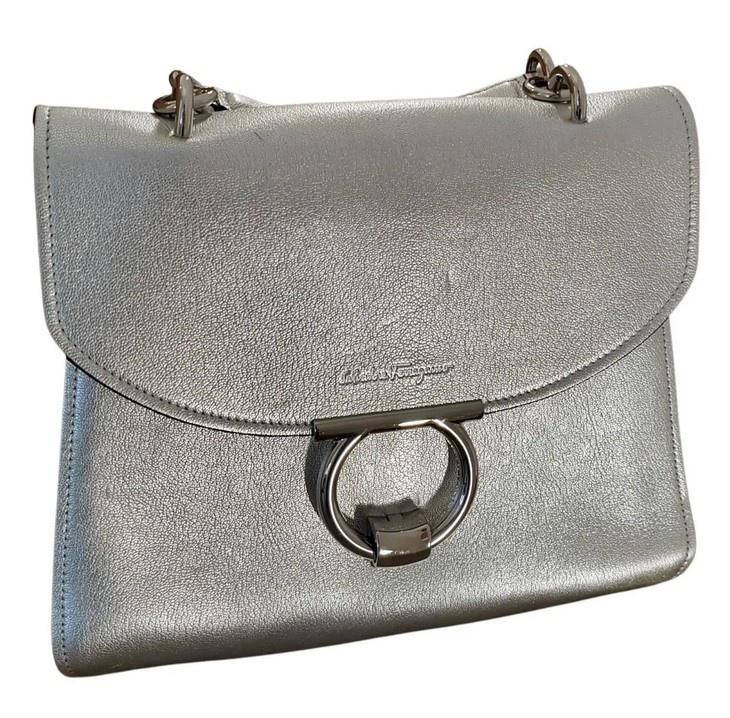FERRAGAMO: (279, 387, 496, 597)
